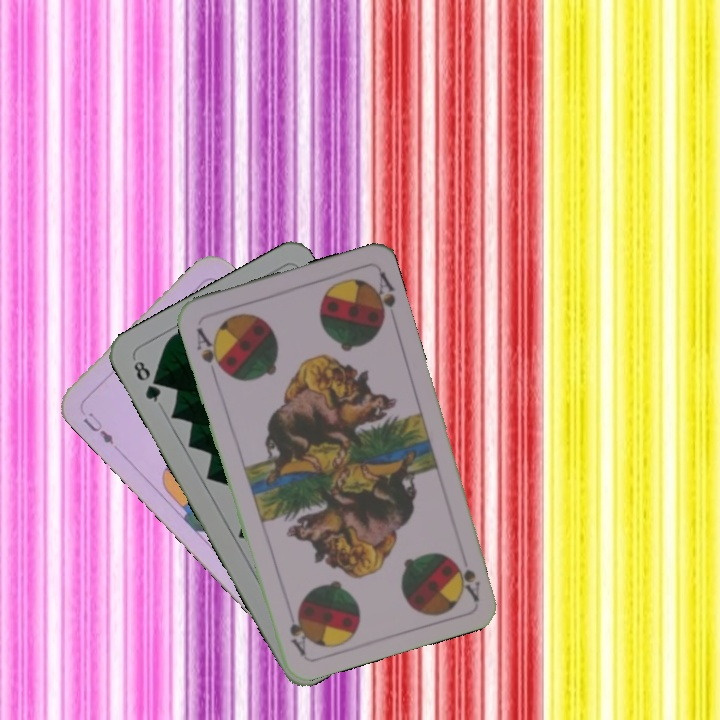EU: (79, 408, 117, 448)
G8: (129, 354, 164, 405)
SA: (192, 323, 227, 376), (451, 556, 483, 603)
